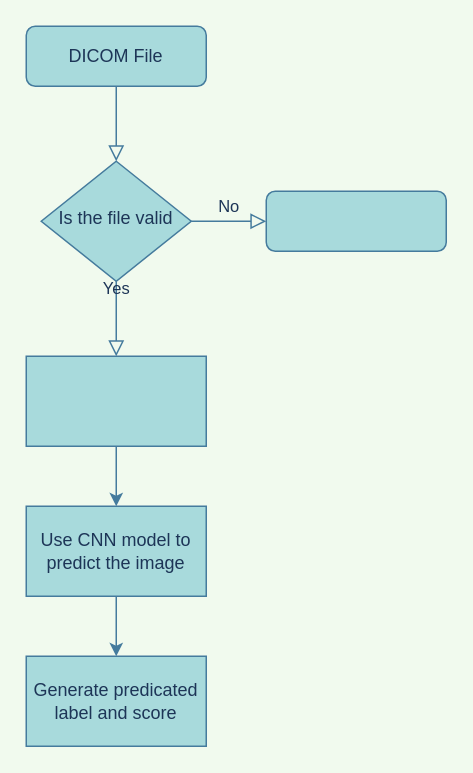
Image size: 473x773. Some labels were removed from this diagram. The centre of each missing label's shape, as x and y in pixels:
"Image pre-preocess" belongs at point 115,400.
"Return invalid information" belongs at point 355,220.
